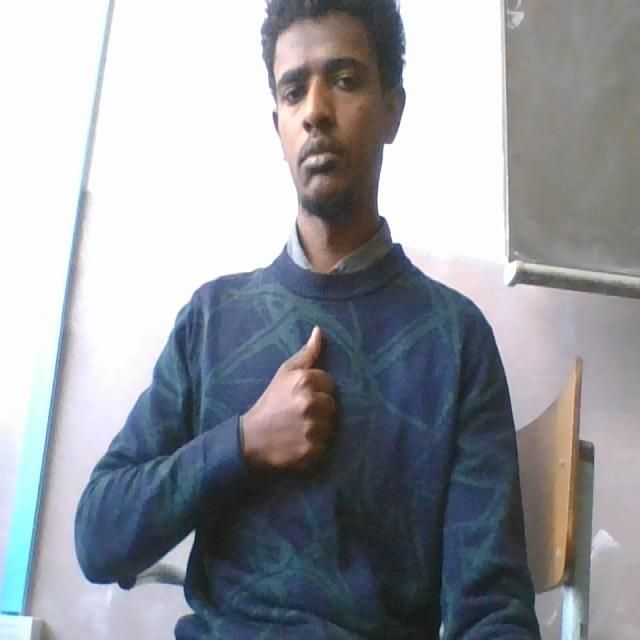yerase: (243, 322, 341, 484)
